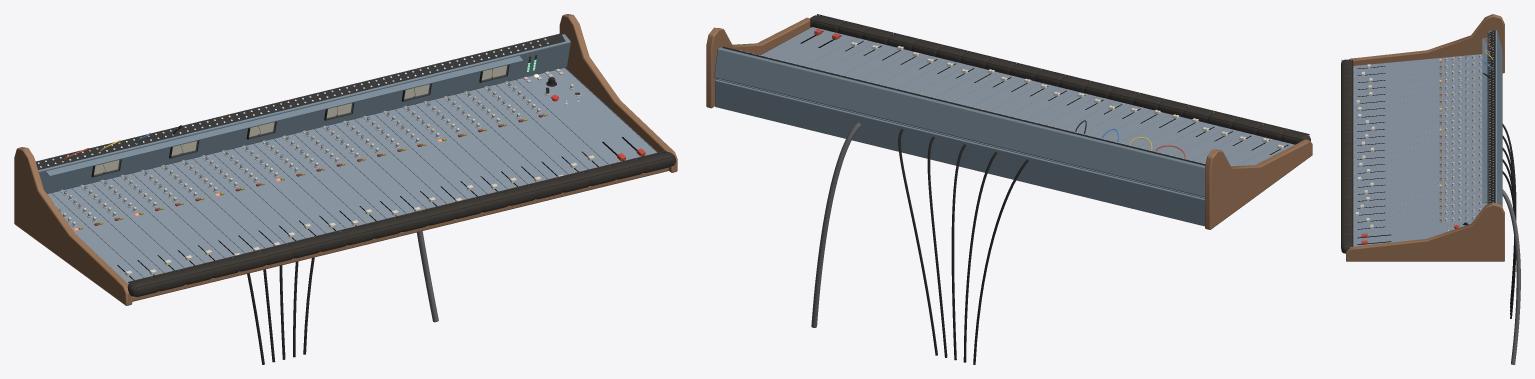
The model's file is console_8028.glb.
3 renders of one model, left to right at view 1: azimuth 30°, elevation 25°; view 2: azimuth 150°, elevation 25°; view 3: azimuth 270°, elevation 25°, orthographic. The views are drawn at different scales.
Visible parts, largest first — view 1: DeckFace, BridgeBody, Armrest, Cheek, PatchPlate, Visor, Cheek.001, Nose, Piping, Piping.001, DeckBed, Snake; view 2: DeckFace, BridgeBody, Body, Armrest, Cheek, Cheek.001, Snake, PatchPlate, Piping.001, Cable.004, Cable.003, Cable.002 (+4 smaller); view 3: DeckFace, Cheek.001, Armrest, Cheek, BridgeBody, PatchPlate, Visor, Snake, Piping, Cable.004, BridgeEnd.001, Cable.001 (+4 smaller).
Part boxes in pixels (x1=…): DeckFace: x1=47, y1=68, x2=656, y2=283; BridgeBody: x1=38, y1=34, x2=570, y2=193; Armrest: x1=127, y1=152, x2=675, y2=296; Cheek: x1=14, y1=147, x2=132, y2=305; PatchPlate: x1=35, y1=33, x2=565, y2=169; Visor: x1=45, y1=55, x2=523, y2=176; Cheek.001: x1=559, y1=14, x2=677, y2=172; Nose: x1=132, y1=167, x2=668, y2=301; Piping: x1=135, y1=156, x2=674, y2=288; Piping.001: x1=128, y1=150, x2=666, y2=282; DeckBed: x1=53, y1=68, x2=657, y2=274; Snake: x1=416, y1=231, x2=438, y2=322; DeckFace: x1=717, y1=27, x2=1294, y2=198; BridgeBody: x1=714, y1=47, x2=1204, y2=197; Body: x1=715, y1=79, x2=1204, y2=226; Armrest: x1=810, y1=15, x2=1310, y2=144; Cheek: x1=1205, y1=139, x2=1312, y2=229; Cheek.001: x1=706, y1=17, x2=810, y2=108; Snake: x1=811, y1=122, x2=861, y2=327; PatchPlate: x1=722, y1=46, x2=1205, y2=165; Piping.001: x1=810, y1=19, x2=1302, y2=139; Cable.004: x1=898, y1=129, x2=937, y2=355; Cable.003: x1=927, y1=136, x2=947, y2=357; Cable.002: x1=951, y1=144, x2=965, y2=360; DeckFace: x1=1353, y1=54, x2=1487, y2=246; Cheek.001: x1=1346, y1=202, x2=1504, y2=261; Armrest: x1=1341, y1=59, x2=1353, y2=253; Cheek: x1=1349, y1=14, x2=1504, y2=73; BridgeBody: x1=1487, y1=30, x2=1502, y2=206; PatchPlate: x1=1488, y1=30, x2=1495, y2=204; Visor: x1=1482, y1=38, x2=1487, y2=203; Snake: x1=1502, y1=189, x2=1520, y2=364; Piping: x1=1341, y1=60, x2=1342, y2=246; Cable.004: x1=1502, y1=171, x2=1515, y2=318; BridgeEnd.001: x1=1488, y1=218, x2=1502, y2=240; Cable.001: x1=1502, y1=135, x2=1516, y2=307.
Bounding box in the file's own units: 2.26 × 1.12 × 0.8988.
